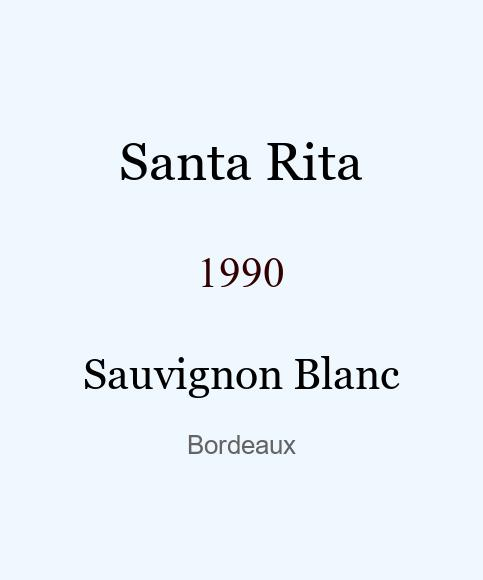brand: (119, 131, 363, 169)
region: (187, 430, 296, 449)
variety: (83, 349, 400, 391)
vintage: (197, 248, 285, 277)
